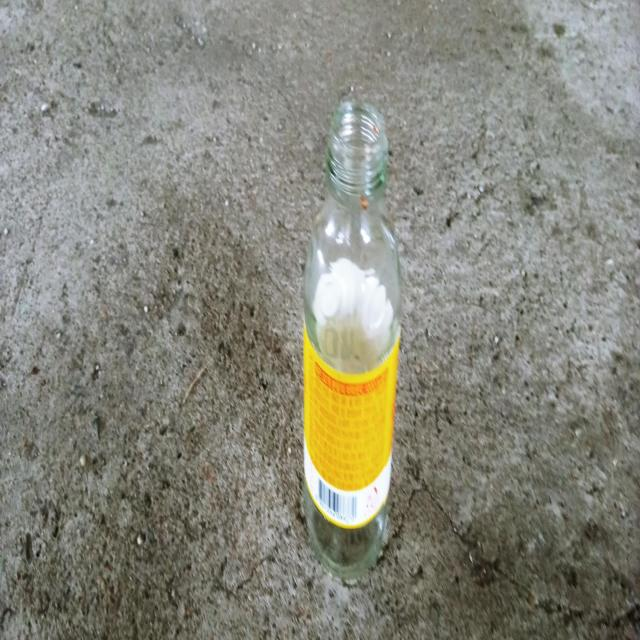glass: (303, 100, 401, 579)
